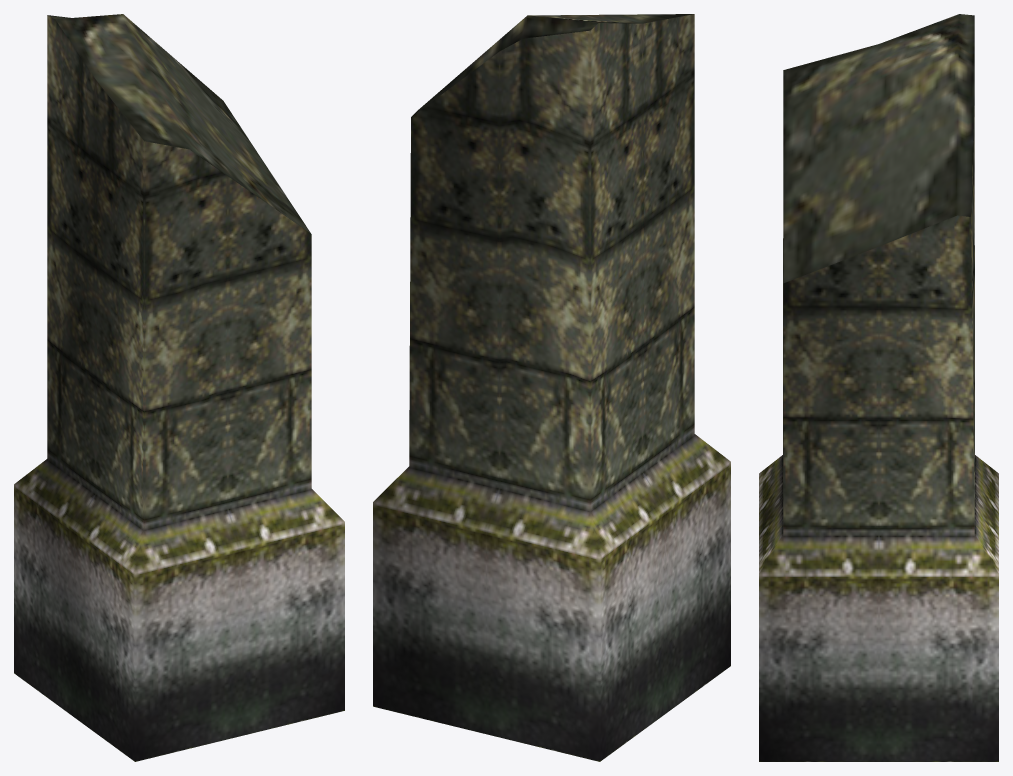
File: broken-pillar.glb
3 views of the same model, side by side, from view 1: azimuth 30°, elevation 25°; view 2: azimuth 150°, elevation 25°; view 3: azimuth 270°, elevation 25° (orthographic). The views are drawn at different scales.
Parts seen in each view (by area): view 1: column_broken; view 2: column_broken; view 3: column_broken.
Boxes of the visible parts, x1,y1,x2,y2 form: column_broken: [14, 14, 344, 761]; column_broken: [373, 14, 730, 761]; column_broken: [759, 14, 998, 761].
Size of the model in its own units: 0.4938 by 1.49 by 0.4938.
Materials: 1 (1 with a texture image).
